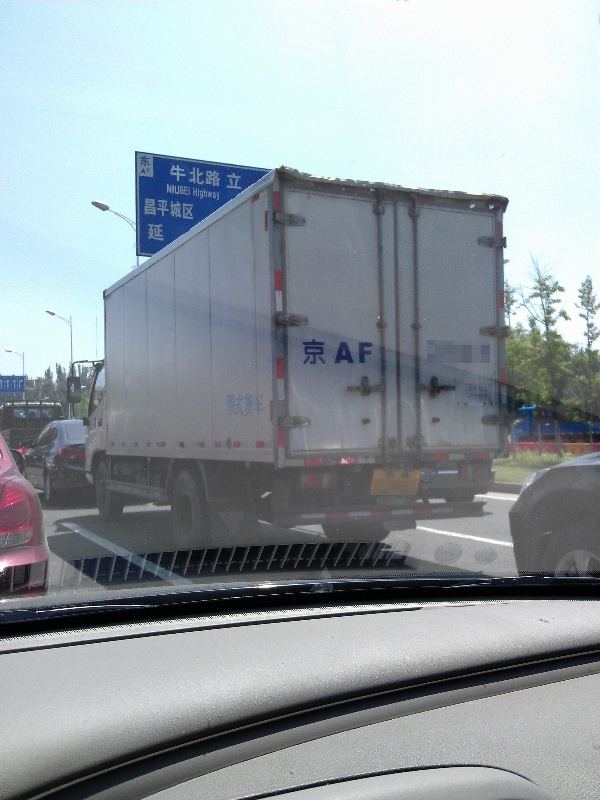text: (241, 391, 256, 420), (226, 391, 240, 420), (305, 340, 320, 365), (177, 164, 192, 187), (193, 164, 208, 187), (145, 198, 160, 221), (161, 198, 176, 221), (177, 198, 192, 221), (337, 342, 352, 365), (353, 342, 368, 365), (209, 164, 221, 187), (227, 172, 240, 190), (257, 391, 265, 420), (148, 223, 160, 241), (194, 187, 208, 202), (385, 468, 400, 481), (177, 184, 192, 197), (209, 187, 222, 202), (169, 164, 176, 187), (401, 468, 412, 481), (321, 340, 326, 365), (167, 184, 176, 197), (369, 342, 373, 365), (145, 156, 152, 167), (147, 168, 160, 173), (161, 223, 164, 241), (241, 172, 243, 190), (141, 156, 144, 167), (303, 340, 304, 365), (193, 198, 194, 221), (335, 342, 336, 365), (383, 468, 384, 481)
